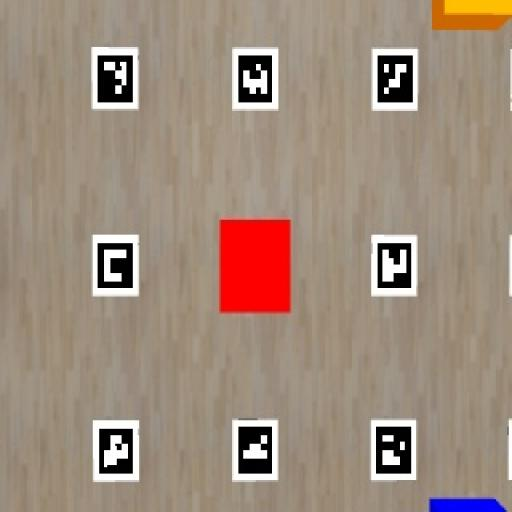car: (429, 498, 507, 511)
fire: (220, 220, 291, 313), (432, 0, 511, 29)
